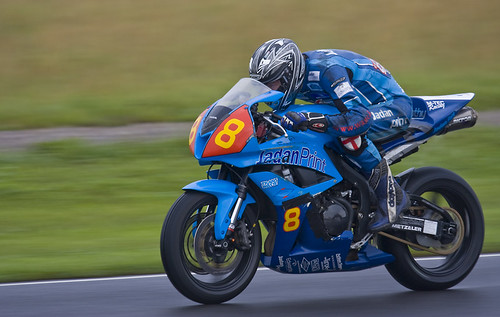helmet: (258, 37, 304, 103)
